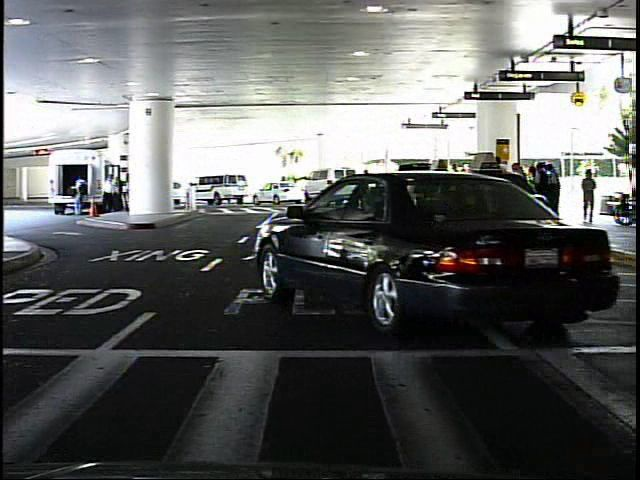person: (356, 165, 380, 220), (579, 168, 599, 226)
